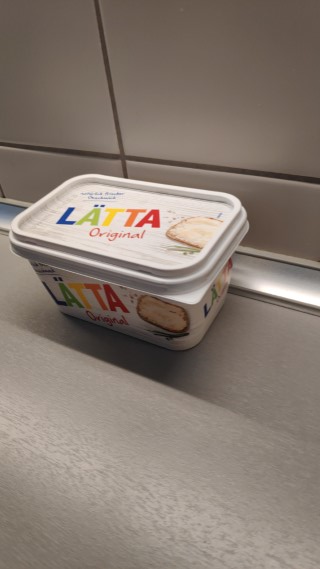laetta: (7, 172, 250, 352)
